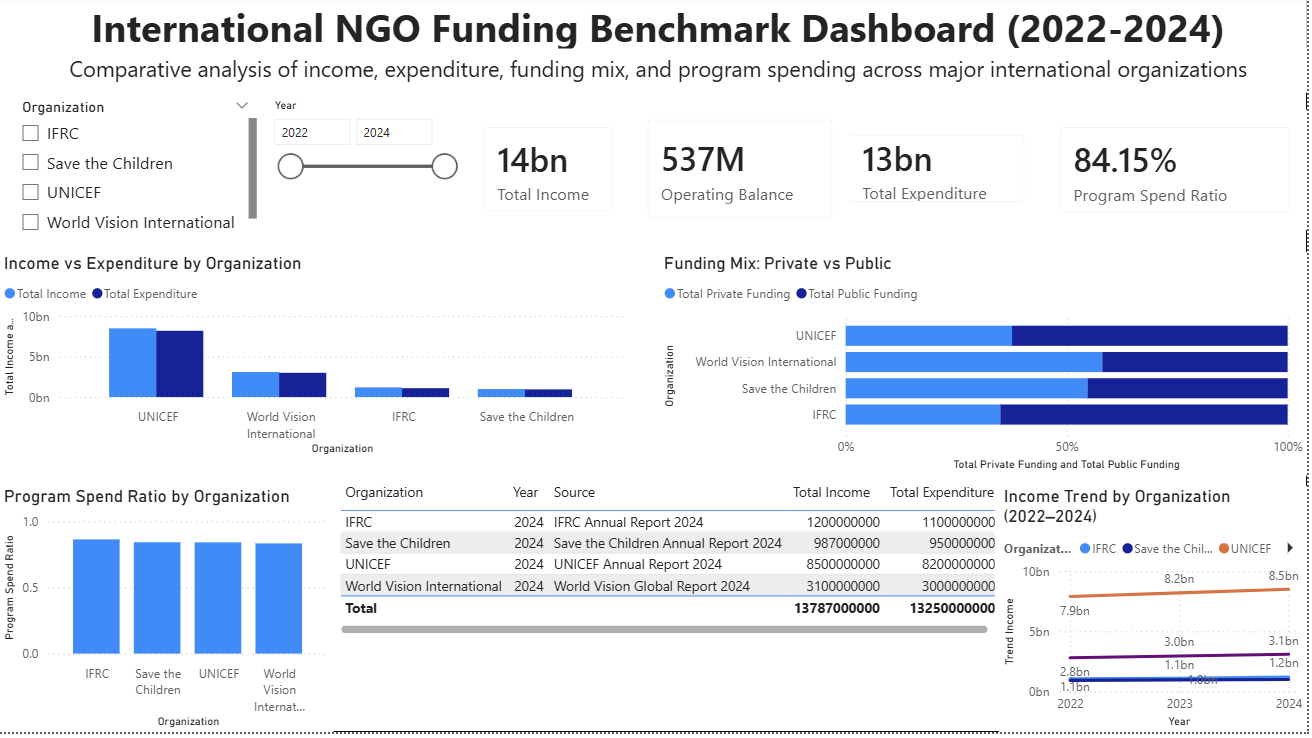

The dashboard page shown, as its layout file describes it:
{"tool":"powerbi","page":{"name":"Page 1","canvas":[1280,720],"ordinal":0},"visuals":[{"type":"textbox","box":[10.3,0,1270,78.2],"z":0},{"type":"textbox","box":[9.9,51.9,1270.4,43.3],"z":1000},{"type":"slicer","fields":{"Values":["ngo_trend_data.Year"]},"box":[257,95.2,200.2,132.2],"z":2000},{"type":"cardVisual","fields":{"Data":["ngo_benchmark_data.Total Income"]},"box":[457.2,111.2,160.6,116.2],"z":3000},{"type":"cardVisual","fields":{"Data":["ngo_benchmark_data.Total Expenditure"]},"box":[814.4,118.6,206.4,100.1],"z":4000},{"type":"cardVisual","fields":{"Data":["ngo_benchmark_data.Operating Balance"]},"box":[617.9,103.8,215,131],"z":5000},{"type":"cardVisual","fields":{"Data":["ngo_benchmark_data.Program Spend Ratio"]},"box":[1020.7,111.2,259.5,117.4],"z":6000},{"type":"clusteredColumnChart","title":"Income vs Expenditure by Organization","fields":{"Category":["ngo_benchmark_data.Organization"],"Y":["ngo_benchmark_data.Total Income","ngo_benchmark_data.Total Expenditure"]},"box":[0,250.9,617.9,202.7],"z":7000},{"type":"hundredPercentStackedBarChart","title":"Funding Mix: Private vs Public","fields":{"Category":["ngo_benchmark_data.Organization"],"Y":["ngo_benchmark_data.Total Private Funding","ngo_benchmark_data.Total Public Funding"]},"box":[645.1,250.9,635.2,218.7],"z":8000},{"type":"clusteredColumnChart","fields":{"Category":["ngo_benchmark_data.Organization"],"Y":["ngo_benchmark_data.Program Spend Ratio"]},"box":[0,479.5,327.5,241],"z":9000},{"type":"lineChart","title":"Income Trend by Organization (2022–2024)","fields":{"Category":["ngo_trend_data.Year"],"Y":["ngo_benchmark_data.Trend Income"],"Series":["ngo_trend_data.Organization"]},"box":[978.7,479.5,301.5,241],"z":10000},{"type":"tableEx","fields":{"Values":["ngo_benchmark_data.Organization","ngo_benchmark_data.Year","ngo_benchmark_data.Source","ngo_benchmark_data.Total Income","ngo_benchmark_data.Total Expenditure"]},"box":[327.5,469.6,651.2,159.4],"z":11000},{"type":"slicer","fields":{"Values":["ngo_benchmark_data.Organization"]},"box":[9.9,95.2,247.2,139.6],"z":12000}]}

Visuals, with their boxes in screenshot pixels (x1, y1, x2, y2), scaled from the page's 1280x720 canvas onto the 1312x738 screenshot:
textbox: left=11, top=0, right=1311, bottom=80
textbox: left=10, top=53, right=1311, bottom=98
slicer - ngo_trend_data.Year: left=263, top=98, right=469, bottom=233
cardVisual - ngo_benchmark_data.Total Income: left=469, top=114, right=633, bottom=233
cardVisual - ngo_benchmark_data.Total Expenditure: left=835, top=122, right=1046, bottom=224
cardVisual - ngo_benchmark_data.Operating Balance: left=633, top=106, right=854, bottom=241
cardVisual - ngo_benchmark_data.Program Spend Ratio: left=1046, top=114, right=1311, bottom=234
"Income vs Expenditure by Organization" clusteredColumnChart: left=0, top=257, right=633, bottom=465
"Funding Mix: Private vs Public" hundredPercentStackedBarChart: left=661, top=257, right=1311, bottom=481
clusteredColumnChart - ngo_benchmark_data.Organization x ngo_benchmark_data.Program Spend Ratio: left=0, top=491, right=336, bottom=737
"Income Trend by Organization (2022–2024)" lineChart: left=1003, top=491, right=1311, bottom=737
tableEx - ngo_benchmark_data.Organization x ngo_benchmark_data.Year: left=336, top=481, right=1003, bottom=645
slicer - ngo_benchmark_data.Organization: left=10, top=98, right=264, bottom=241
